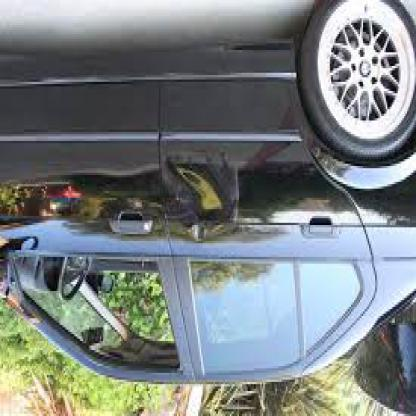dent: (174, 166, 226, 214)
